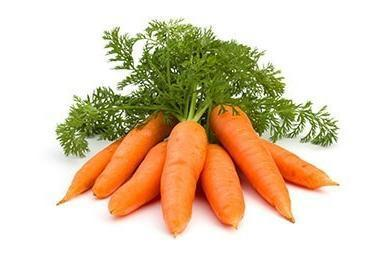carrot: (62, 99, 341, 235), (100, 117, 310, 227)
